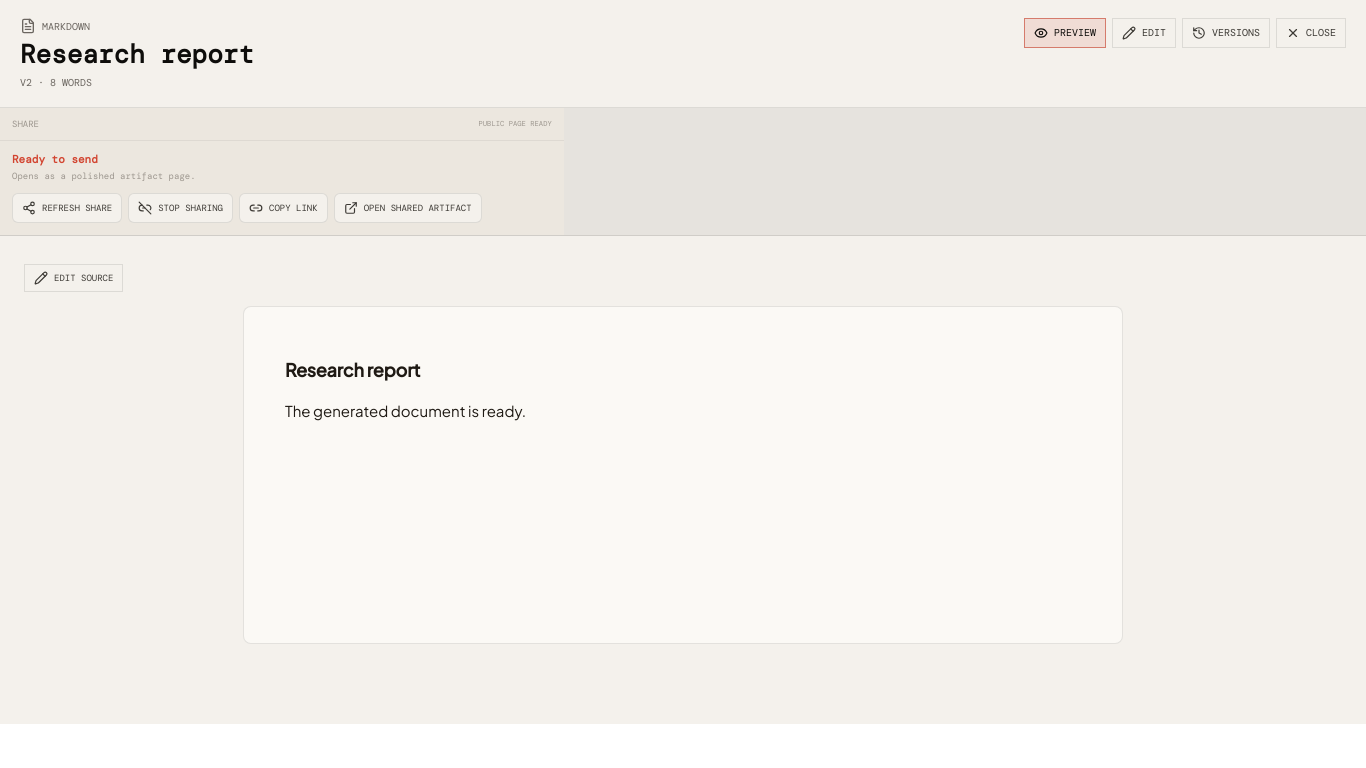
Scenario: AgentArtifactCanvas › treats Versions as a real workspace mode
This screenshot has width=1366, height=768.
Expected: the element with test id "agent-artifact-canvas" shows "The generated document is ready.", [285,401,526,420]
Click the button "Versions" at (1226, 33), box [1182,18,1270,48]
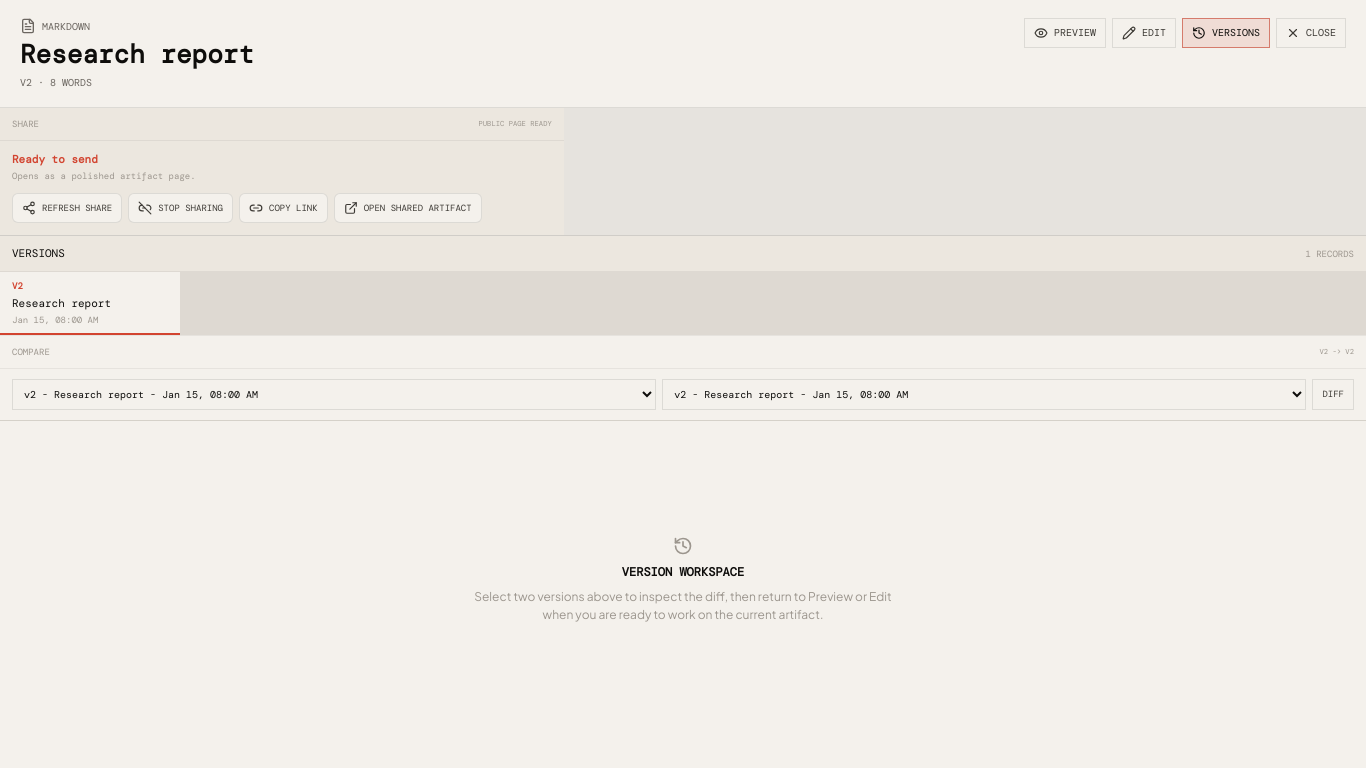
Expected: the element with test id "agent-artifact-history" is shown, [0,236,1365,421]
Expected: the element with test id "agent-artifact-history-mode" shows "Version workspace", [622,564,744,580]
Click the button "Preview" at (1065, 33), box [1024,18,1106,48]
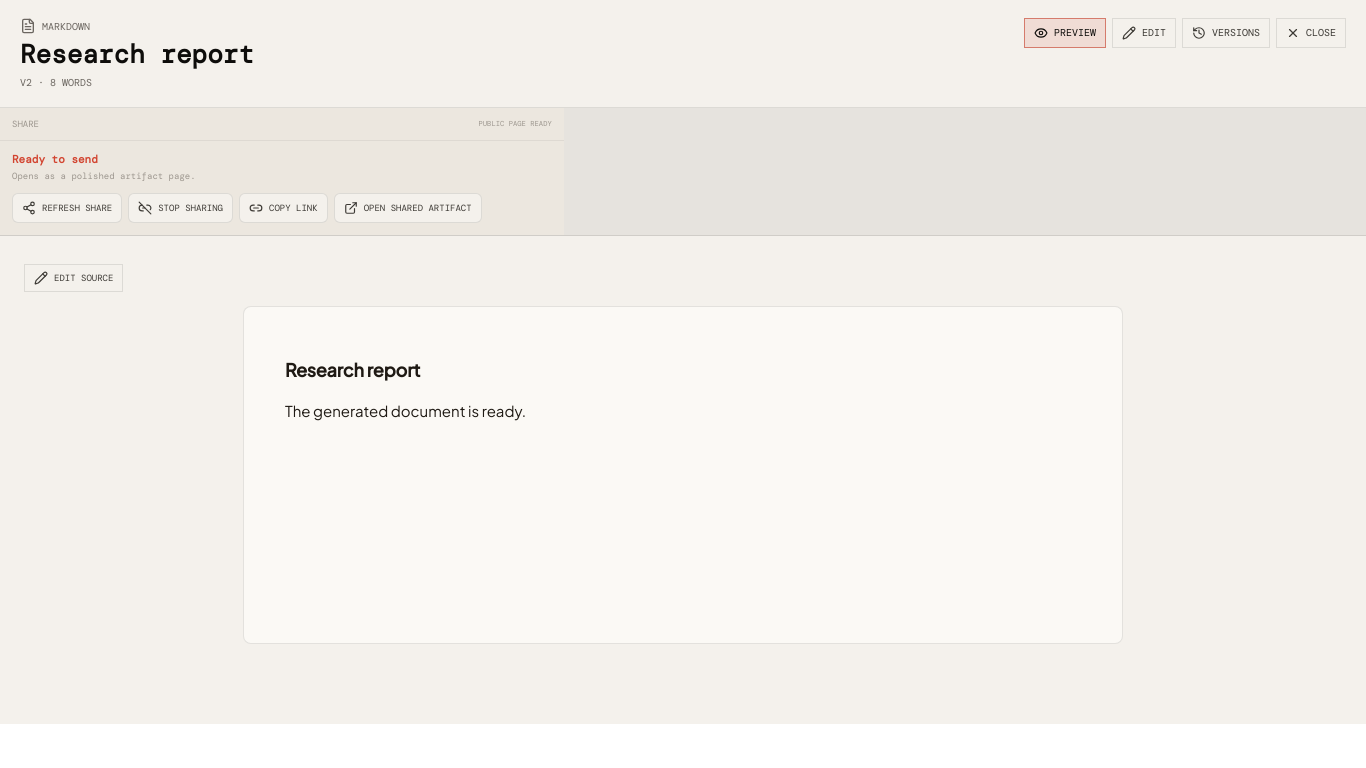
Expected: the element with test id "agent-artifact-history" is gone
